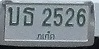txt19: (21, 5, 36, 27)
txt21: (7, 6, 21, 26)
